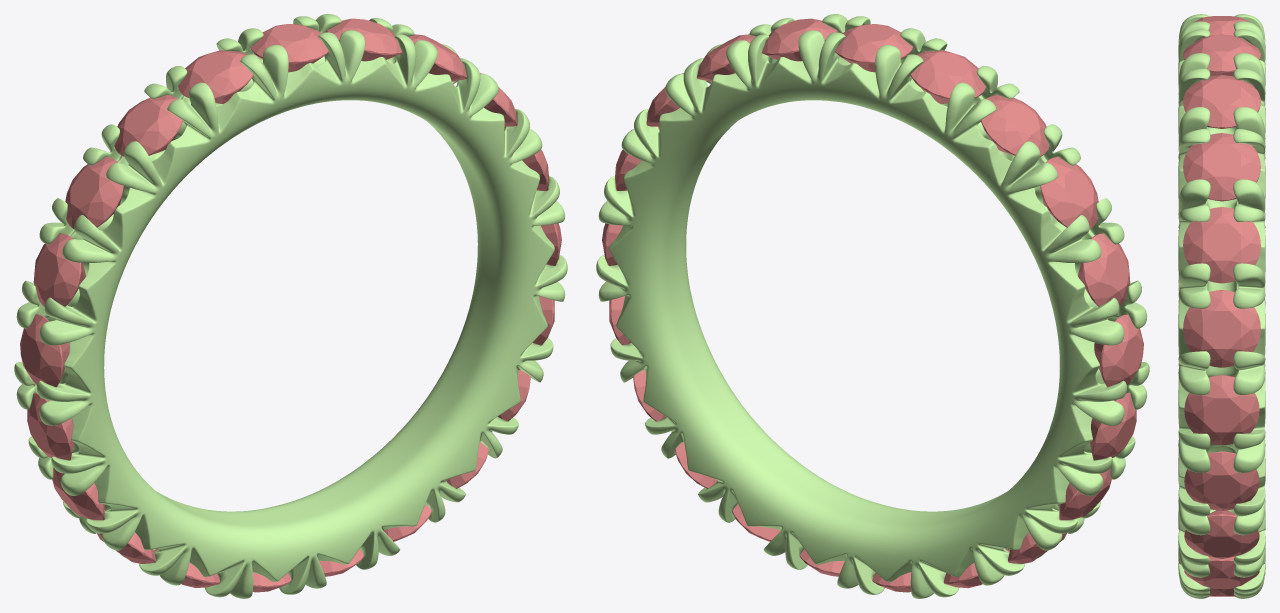
Rendered from BE2D4981E_RENDER.glb.
The picture shows the model from 3 angles, left to right: view 1: azimuth 30°, elevation 25°; view 2: azimuth 150°, elevation 25°; view 3: azimuth 270°, elevation 25°; orthographic projection. The views are drawn at different scales.
Visible parts, largest first — view 1: Metal03, Diamond_Round_Gem_BD.004, Diamond_Round_Gem_BD.005, Diamond_Round_Gem_BD.006, Diamond_Round_Gem_BD.020, Diamond_Round_Gem_BD.019, Diamond_Round_Gem_BD.007, Diamond_Round_Gem_BD.018, Diamond_Round_Gem_BD.001, Diamond_Round_Gem_BD.017, Diamond_Round_Gem_BD.002; view 2: Metal03, Diamond_Round_Gem_BD.004, Diamond_Round_Gem_BD.005, Diamond_Round_Gem_BD.006, Diamond_Round_Gem_BD.020, Diamond_Round_Gem_BD.019, Diamond_Round_Gem_BD.007, Diamond_Round_Gem_BD.018, Diamond_Round_Gem_BD.001, Diamond_Round_Gem_BD.017, Diamond_Round_Gem_BD.002; view 3: Metal03, Diamond_Round_Gem_BD, Diamond_Round_Gem_BD.003, Diamond_Round_Gem_BD.008, Diamond_Round_Gem_BD.002, Diamond_Round_Gem_BD.009, Diamond_Round_Gem_BD.001, Diamond_Round_Gem_BD.010, Diamond_Round_Gem_BD.007, Diamond_Round_Gem_BD.011, Diamond_Round_Gem_BD.006, Diamond_Round_Gem_BD.012.
Boxes of the visible parts, left/top/right/bottom form: Metal03: left=14, top=14, right=567, bottom=598; Diamond_Round_Gem_BD.004: left=65, top=157, right=123, bottom=228; Diamond_Round_Gem_BD.005: left=114, top=94, right=183, bottom=156; Diamond_Round_Gem_BD.006: left=178, top=50, right=253, bottom=103; Diamond_Round_Gem_BD.020: left=33, top=233, right=85, bottom=306; Diamond_Round_Gem_BD.019: left=20, top=314, right=69, bottom=387; Diamond_Round_Gem_BD.007: left=250, top=24, right=328, bottom=72; Diamond_Round_Gem_BD.018: left=27, top=392, right=73, bottom=460; Diamond_Round_Gem_BD.001: left=326, top=18, right=402, bottom=61; Diamond_Round_Gem_BD.017: left=52, top=467, right=104, bottom=520; Diamond_Round_Gem_BD.002: left=408, top=34, right=467, bottom=81; Metal03: left=596, top=14, right=1149, bottom=598; Diamond_Round_Gem_BD.004: left=1040, top=157, right=1098, bottom=228; Diamond_Round_Gem_BD.005: left=980, top=95, right=1049, bottom=156; Diamond_Round_Gem_BD.006: left=910, top=50, right=985, bottom=104; Diamond_Round_Gem_BD.020: left=1078, top=233, right=1130, bottom=306; Diamond_Round_Gem_BD.019: left=1094, top=314, right=1143, bottom=387; Diamond_Round_Gem_BD.007: left=835, top=24, right=913, bottom=72; Diamond_Round_Gem_BD.018: left=1090, top=392, right=1136, bottom=460; Diamond_Round_Gem_BD.001: left=761, top=18, right=837, bottom=61; Diamond_Round_Gem_BD.017: left=1059, top=467, right=1111, bottom=520; Diamond_Round_Gem_BD.002: left=696, top=34, right=755, bottom=81; Metal03: left=1178, top=14, right=1265, bottom=598; Diamond_Round_Gem_BD: left=1183, top=290, right=1260, bottom=367; Diamond_Round_Gem_BD.003: left=1183, top=207, right=1260, bottom=283; Diamond_Round_Gem_BD.008: left=1184, top=375, right=1259, bottom=445; Diamond_Round_Gem_BD.002: left=1183, top=133, right=1260, bottom=201; Diamond_Round_Gem_BD.009: left=1184, top=451, right=1259, bottom=510; Diamond_Round_Gem_BD.001: left=1183, top=75, right=1260, bottom=128; Diamond_Round_Gem_BD.010: left=1184, top=510, right=1259, bottom=558; Diamond_Round_Gem_BD.007: left=1183, top=34, right=1260, bottom=76; Diamond_Round_Gem_BD.011: left=1184, top=556, right=1259, bottom=588; Diamond_Round_Gem_BD.006: left=1193, top=16, right=1250, bottom=35; Diamond_Round_Gem_BD.012: left=1206, top=588, right=1237, bottom=596.
Bounding box in the file's own units: 21.79 × 21.8 × 3.25.
